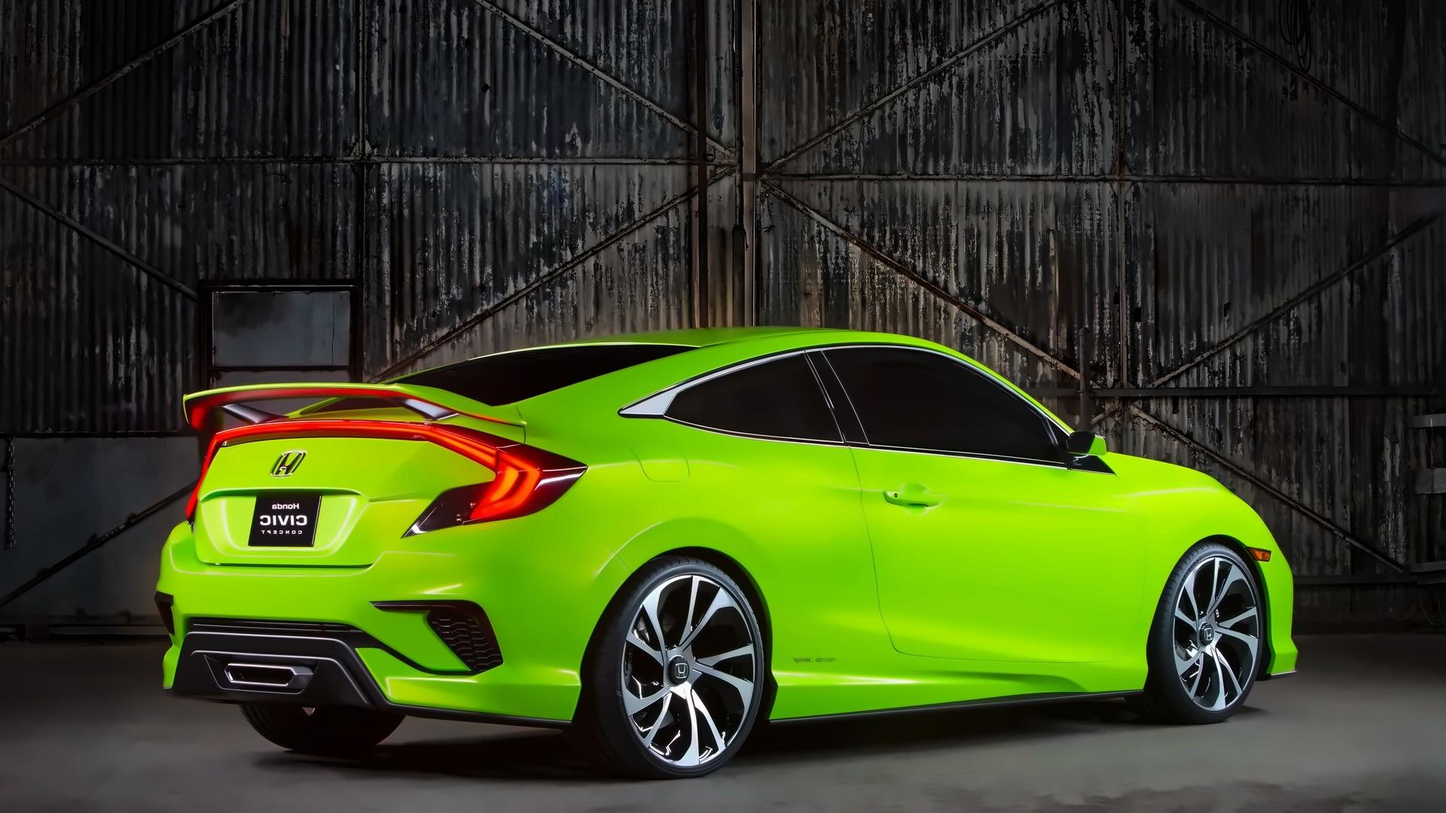Car boot: (181, 417, 532, 575)
Driver-s door - -F-R-: (842, 334, 1136, 675)
Fender - -F-R-: (1136, 449, 1255, 697)
Fender - -R-R-: (615, 420, 802, 724)
Front bumper: (1258, 560, 1312, 686)
Headlight - -L-: (172, 426, 232, 535)
Headlight - -R-: (396, 416, 592, 548)
Rear bumper: (147, 534, 627, 739)
Side bumper - -R-: (753, 666, 1154, 732)
Side mirror - -R-: (1039, 414, 1122, 486)
